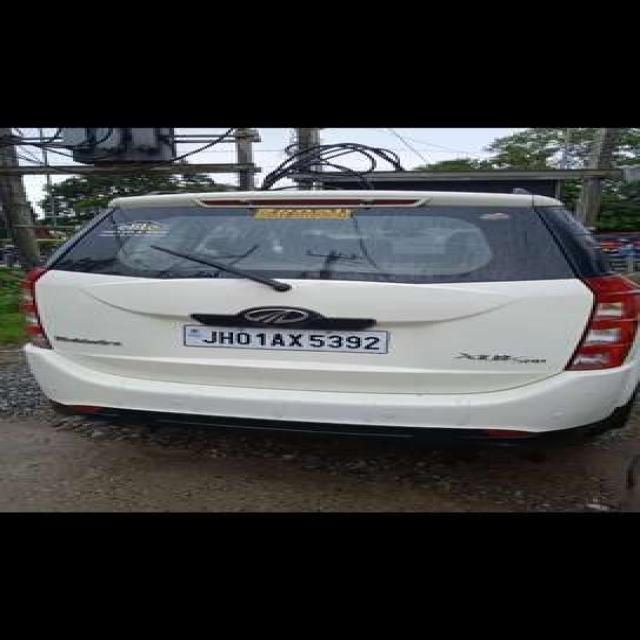plate: (182, 324, 390, 354)
